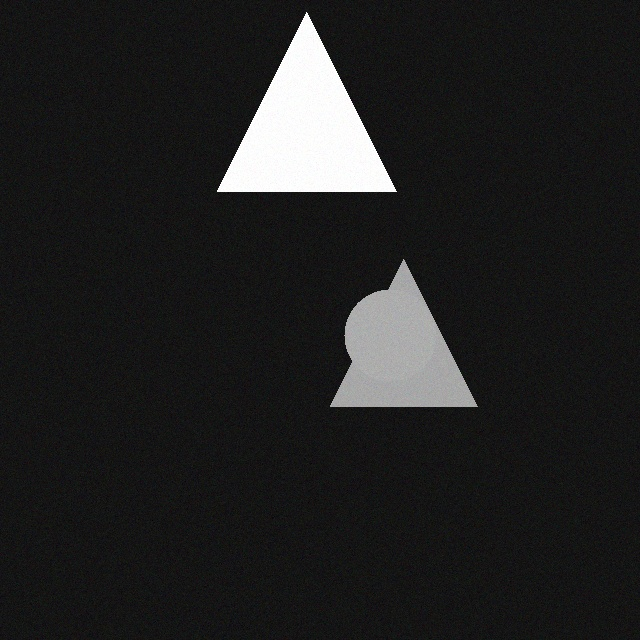circle: (347, 297, 439, 389)
triangle: (220, 20, 399, 199), (333, 267, 480, 414)
